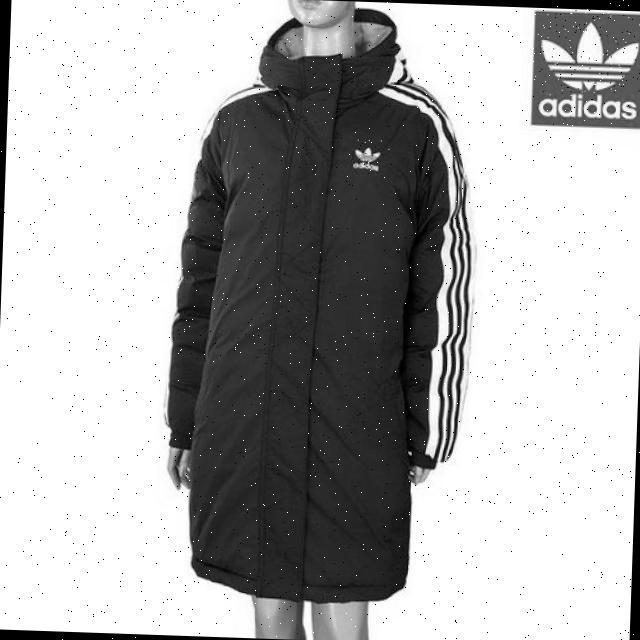Adidas: (534, 8, 640, 98), (350, 138, 391, 166)
